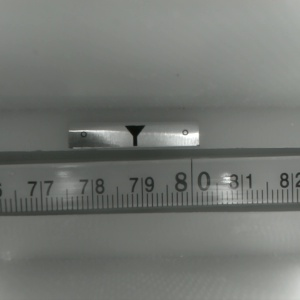0: (196, 171, 210, 191)
1: (245, 174, 252, 188)
2: (294, 172, 300, 187)
3: (226, 174, 237, 189)
7: (26, 180, 37, 196), (78, 179, 89, 194), (128, 177, 138, 192), (43, 180, 53, 195)
8: (174, 171, 187, 191), (94, 178, 105, 194), (278, 172, 288, 188)
9: (144, 177, 154, 193)
finger: (123, 125, 145, 146)
